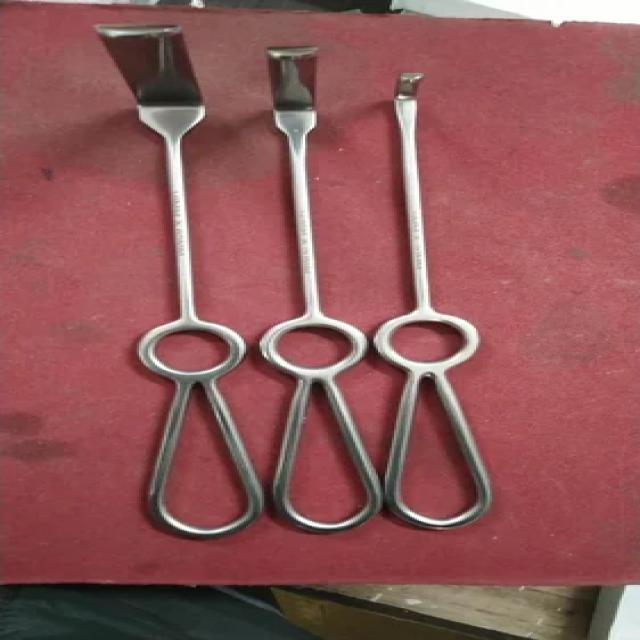Langenbach Retractor: (74, 16, 268, 544), (377, 67, 510, 541), (257, 38, 383, 534)
